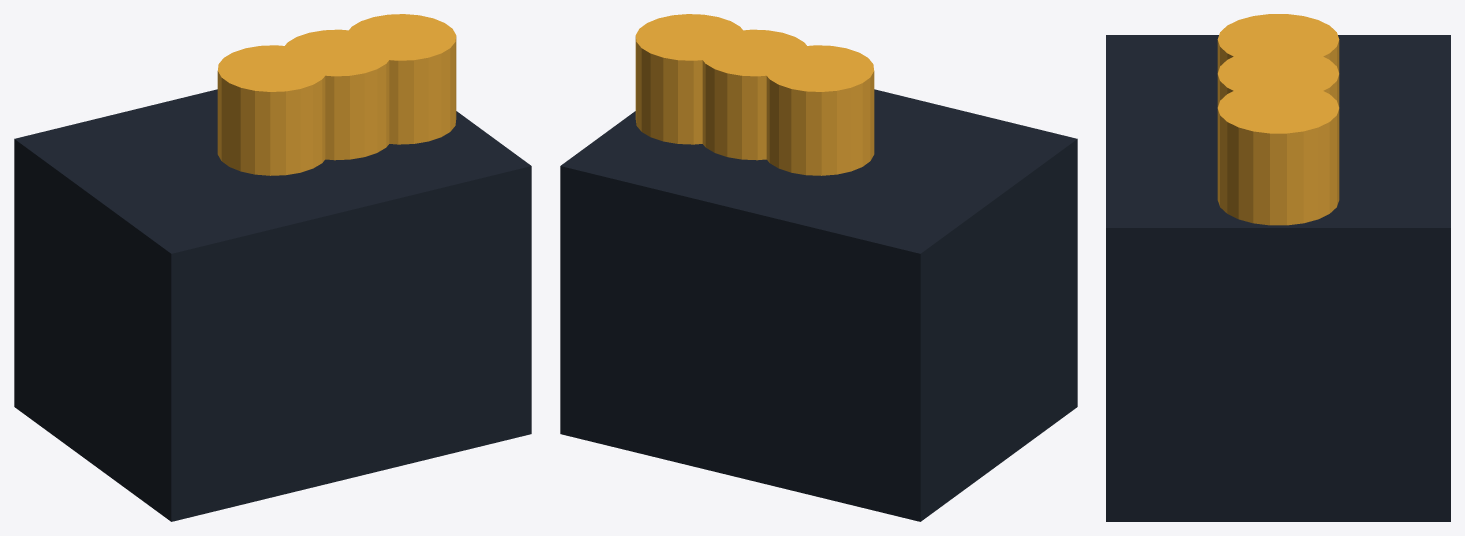
Rendered from 15_L86_RobotCounterbalanceModule.fbx.
3 renders of one model, left to right at view 1: azimuth 30°, elevation 25°; view 2: azimuth 150°, elevation 25°; view 3: azimuth 270°, elevation 25°, orthographic. The views are drawn at different scales.
Visible parts, largest first — view 1: L86_RobotCounterbalanceModule_Part_0000, L86_RobotCounterbalanceModule_Part_0001; view 2: L86_RobotCounterbalanceModule_Part_0000, L86_RobotCounterbalanceModule_Part_0001; view 3: L86_RobotCounterbalanceModule_Part_0000, L86_RobotCounterbalanceModule_Part_0001.
Boxes of the visible parts, box(x1,y1,x2,y2) form: L86_RobotCounterbalanceModule_Part_0000: box(14, 89, 531, 521); L86_RobotCounterbalanceModule_Part_0001: box(217, 14, 456, 175); L86_RobotCounterbalanceModule_Part_0000: box(560, 89, 1077, 521); L86_RobotCounterbalanceModule_Part_0001: box(635, 14, 874, 175); L86_RobotCounterbalanceModule_Part_0000: box(1106, 35, 1450, 521); L86_RobotCounterbalanceModule_Part_0001: box(1217, 14, 1339, 225).
Size of the model in its own units: 90 by 84 by 68.
